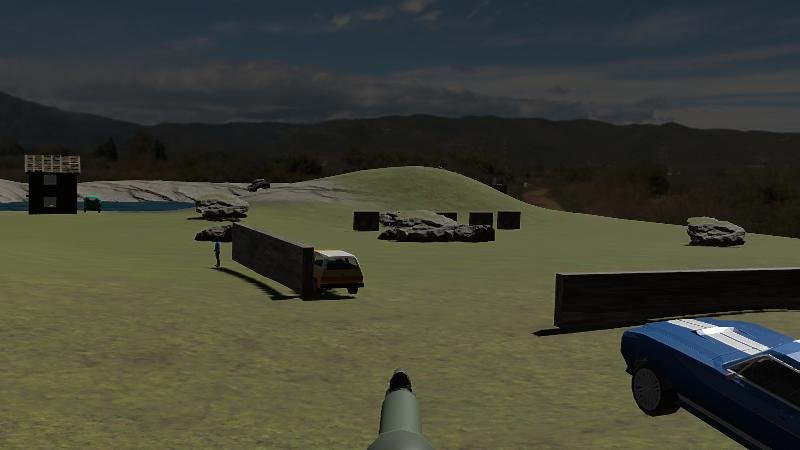car: (310, 248, 364, 297)
